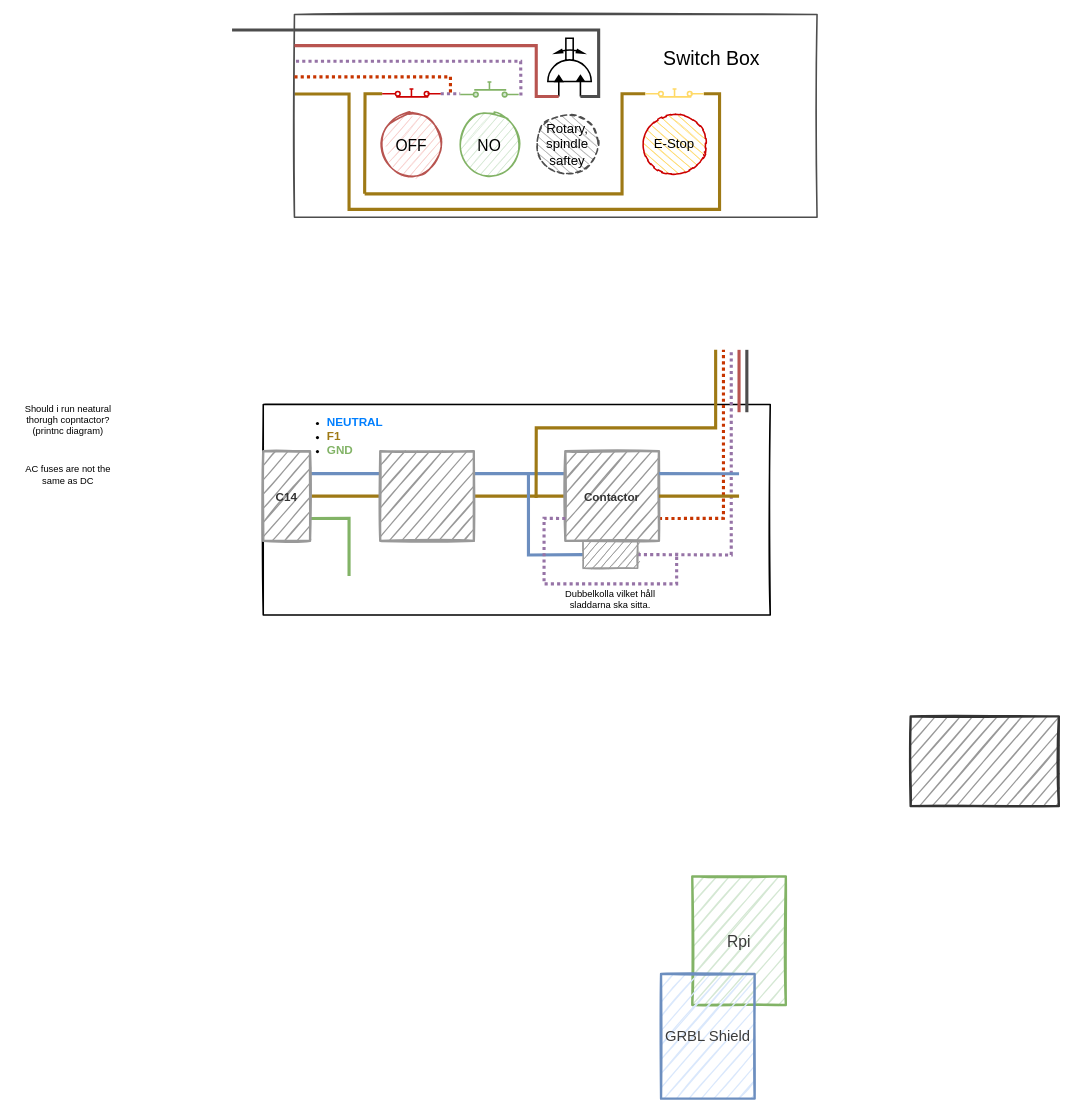
Image size: 1073x1113. Some labels were removed from this diagram. The centre of each missing label's shape, as x and y in pixels:
"Coil" belongs at point (610, 554).
"GFCI" belongs at point (427, 496).
